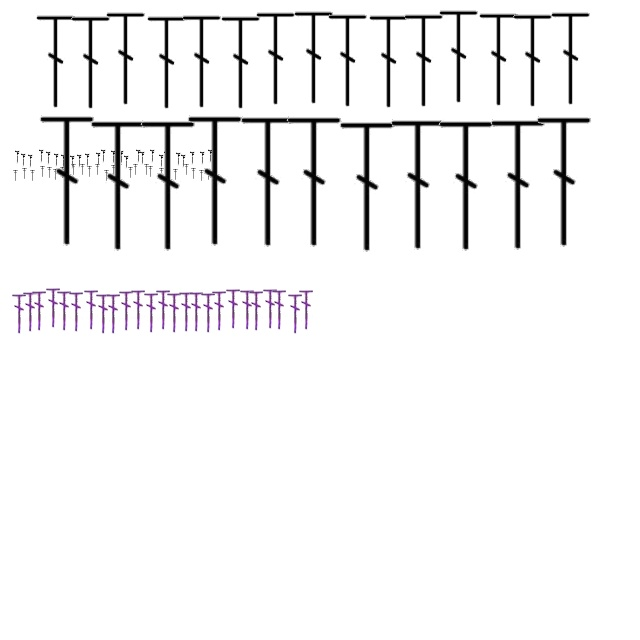double treble: (38, 112, 98, 250), (186, 112, 246, 250), (338, 118, 398, 256), (90, 116, 148, 256), (140, 116, 198, 256), (240, 112, 298, 252), (286, 112, 344, 252), (438, 116, 496, 256), (536, 112, 594, 252), (390, 116, 448, 254), (490, 116, 548, 254), (35, 12, 77, 112), (181, 12, 223, 112), (293, 8, 335, 108), (368, 12, 410, 112), (478, 10, 520, 110), (70, 14, 112, 112), (105, 10, 147, 108), (146, 14, 188, 112), (220, 14, 262, 112), (255, 10, 297, 108), (327, 12, 369, 110), (403, 12, 445, 110), (438, 8, 480, 106), (512, 12, 554, 110), (550, 10, 592, 108), (12, 292, 26, 334), (23, 290, 37, 332), (32, 289, 46, 331), (46, 286, 60, 328), (57, 289, 71, 331), (69, 290, 83, 332), (84, 288, 98, 330), (96, 292, 110, 334), (106, 292, 120, 334), (119, 289, 133, 331), (131, 288, 145, 330), (144, 291, 158, 333), (156, 288, 170, 330), (167, 291, 181, 333), (179, 290, 193, 332), (189, 290, 203, 332), (201, 291, 215, 333), (212, 289, 226, 331), (226, 287, 240, 329), (240, 288, 254, 330), (249, 289, 263, 331), (263, 287, 277, 329), (272, 288, 286, 330), (288, 292, 302, 334), (299, 288, 313, 330), (28, 154, 34, 168), (46, 151, 52, 165), (54, 153, 60, 167), (70, 155, 76, 169), (96, 152, 102, 166), (124, 155, 130, 169), (136, 149, 142, 163), (140, 151, 146, 165), (150, 149, 156, 163), (164, 151, 170, 165), (176, 152, 182, 166), (190, 151, 196, 165), (200, 151, 206, 165), (208, 149, 214, 163), (22, 168, 28, 180), (30, 170, 36, 182), (40, 166, 46, 178), (80, 164, 86, 176), (104, 170, 110, 182), (144, 164, 150, 176), (148, 166, 154, 178), (166, 164, 172, 176), (184, 164, 190, 176), (60, 168, 66, 178), (128, 168, 134, 178), (206, 170, 212, 180), (16, 150, 20, 164), (22, 153, 26, 167), (40, 149, 44, 163), (62, 154, 66, 168), (78, 154, 82, 168), (86, 153, 90, 167), (102, 149, 106, 163), (112, 150, 116, 164), (120, 150, 124, 164), (160, 154, 164, 168), (182, 154, 186, 168), (14, 170, 18, 182), (72, 164, 76, 176), (88, 166, 92, 178), (96, 164, 100, 176), (118, 164, 122, 176), (134, 164, 138, 176), (160, 168, 164, 180), (192, 168, 196, 180), (200, 170, 204, 182), (48, 168, 52, 178), (54, 170, 58, 180), (112, 166, 116, 176), (174, 170, 178, 180)
